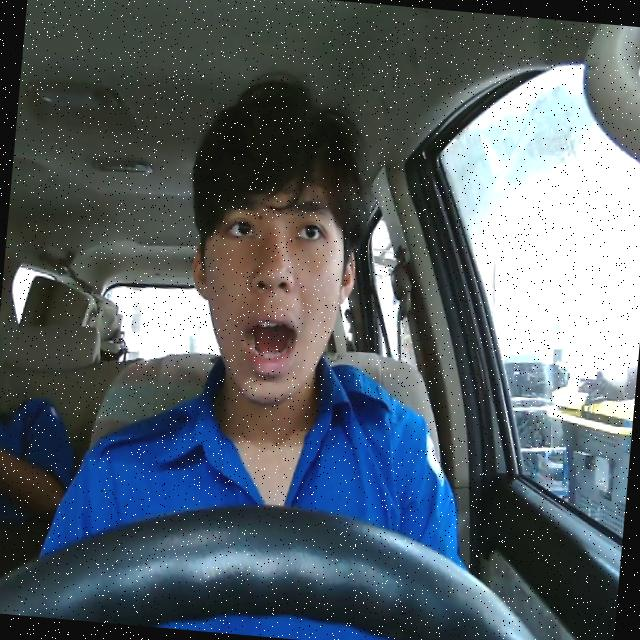yarning: (180, 162, 363, 406)
